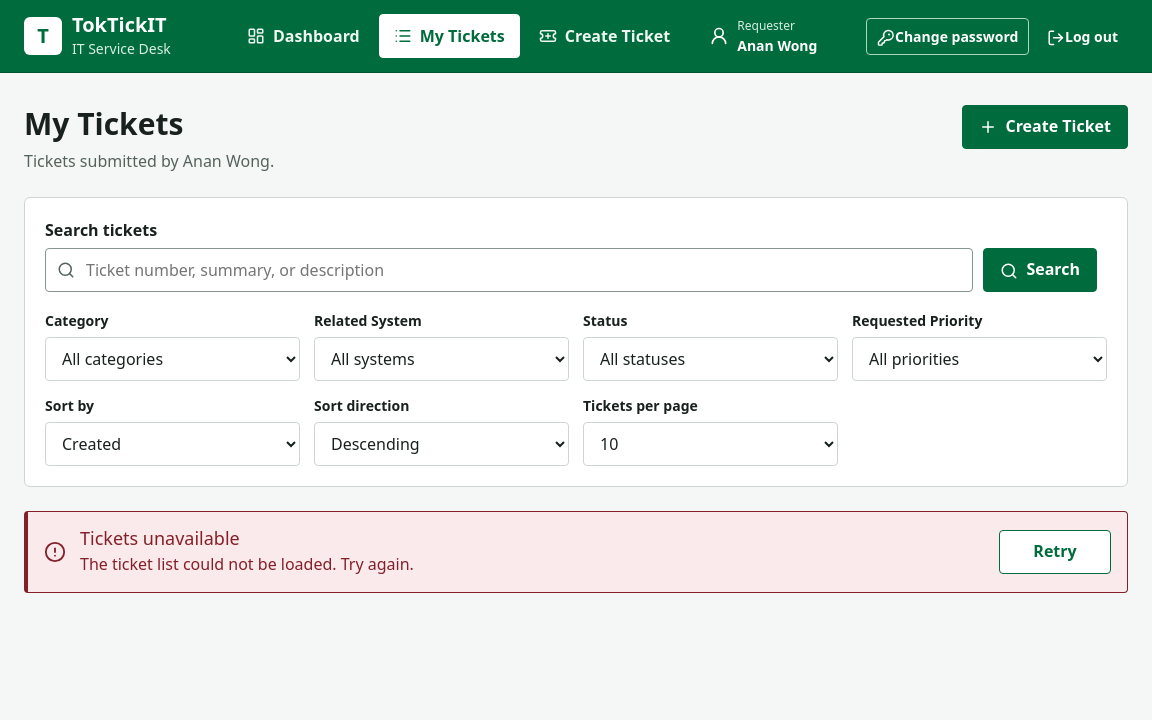
Test case: My Tickets › shows a safe list/filter-metadata failure, preserves controls, and retries
This screenshot has width=1152, height=720.
Expected: the message shows "Tickets unavailable", x1=80 y1=526 x2=240 y2=550
Expected: the search field labelled "Search tickets" is shown, x1=45 y1=248 x2=973 y2=292
Click the button "Retry": {"x": 1055, "y": 552} x1=999 y1=530 x2=1111 y2=574
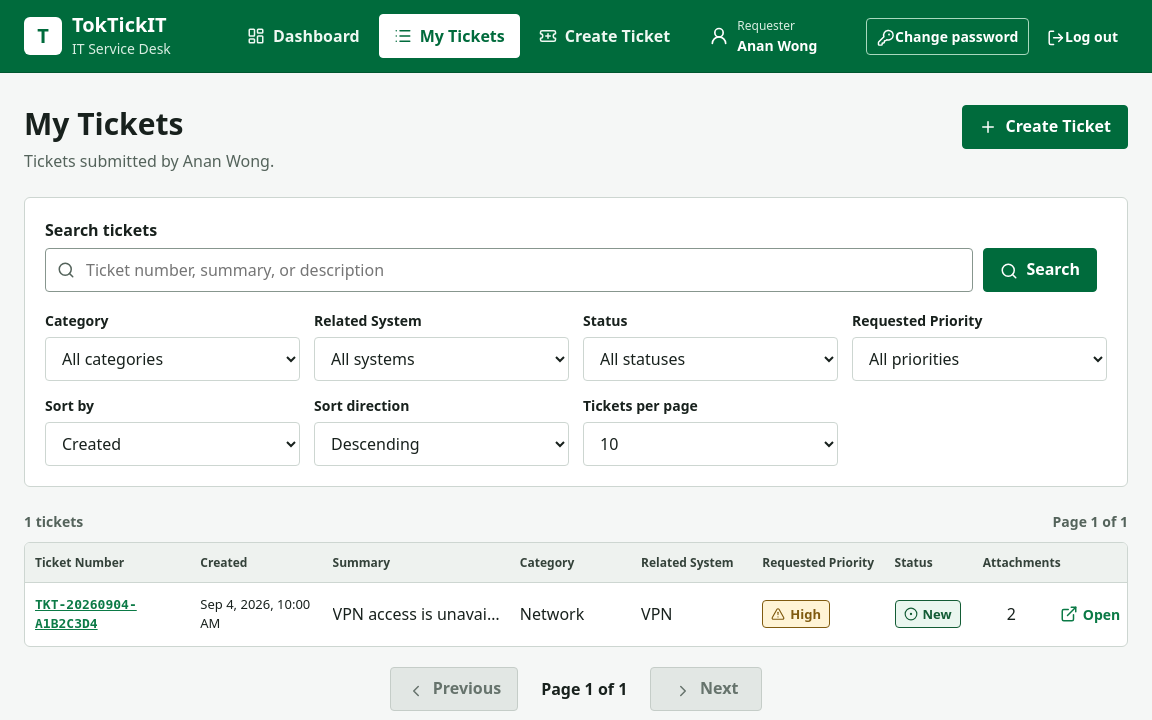
Now the text "1 tickets" is shown, box x1=24 y1=510 x2=83 y2=532
